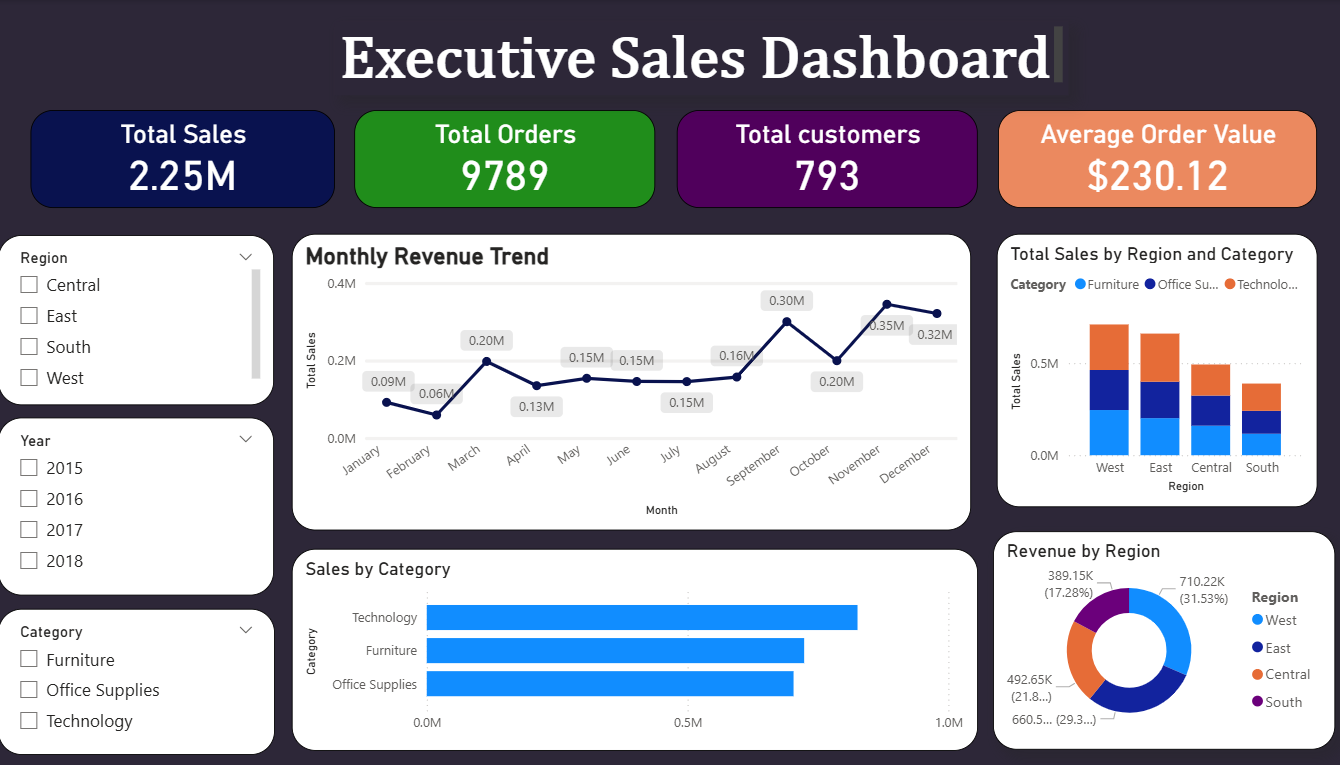

This screenshot's page, from the dashboard's own definition file:
{"tool":"powerbi","page":{"name":"Page 1","canvas":[1280,720],"ordinal":0},"visuals":[{"type":"card","title":"Total Sales","fields":{"Values":["Sum(fact_sales.Sales)"]},"box":[48.6,102.9,282.9,91.4],"z":0},{"type":"card","title":"Total Orders","fields":{"Values":["dim_customer.Total Orders"]},"box":[350,102.9,280,91.4],"z":1000},{"type":"card","title":"Total customers","fields":{"Values":["dim_customer.Total Customers"]},"box":[650,102.9,280,91.4],"z":2000},{"type":"card","title":"Average Order Value","fields":{"Values":["dim_customer.Average Order Value"]},"box":[948.6,102.9,297.1,91.4],"z":3000},{"type":"lineChart","title":"Monthly Revenue Trend","fields":{"Category":["dim_date.Order Date.Variation.Date Hierarchy.Month"],"Y":["dim_customer.Total Sales"]},"box":[292,218,632,276],"z":4000},{"type":"donutChart","title":"Revenue by Region","fields":{"Category":["dim_region.Region"],"Y":["dim_customer.Total Sales"]},"box":[944.3,494.3,318.6,202.9],"z":5000},{"type":"barChart","title":"Sales by Category","fields":{"Category":["dim_product.Category"],"Y":["dim_customer.Total Sales"]},"box":[292,510,638,188],"z":6000},{"type":"slicer","fields":{"Values":["dim_region.Region"]},"box":[18.6,218.6,257.1,158.6],"z":7000},{"type":"slicer","fields":{"Values":["dim_date.Year"]},"box":[18.6,388.6,257.1,165.7],"z":8000},{"type":"slicer","fields":{"Values":["dim_product.Category"]},"box":[18.7,566.7,257.3,136],"z":9000},{"type":"columnChart","fields":{"Category":["dim_region.Region"],"Y":["dim_customer.Total Sales"],"Series":["dim_product.Category"]},"box":[948,218,298,254],"z":10000},{"type":"textbox","box":[331.4,20,682.9,68.6],"z":11000}]}

Visuals, with their boxes in screenshot pixels (x1, y1, x2, y2), scaled from the page's 1280x720 canvas onto the 1340x765 screenshot:
"Total Sales" card: BBox(51, 109, 347, 206)
"Total Orders" card: BBox(366, 109, 660, 206)
"Total customers" card: BBox(680, 109, 974, 206)
"Average Order Value" card: BBox(993, 109, 1304, 206)
"Monthly Revenue Trend" lineChart: BBox(306, 232, 967, 525)
"Revenue by Region" donutChart: BBox(989, 525, 1322, 741)
"Sales by Category" barChart: BBox(306, 542, 974, 742)
slicer - dim_region.Region: BBox(19, 232, 289, 401)
slicer - dim_date.Year: BBox(19, 413, 289, 589)
slicer - dim_product.Category: BBox(20, 602, 289, 747)
columnChart - dim_region.Region x dim_customer.Total Sales: BBox(992, 232, 1304, 502)
textbox: BBox(347, 21, 1062, 94)
